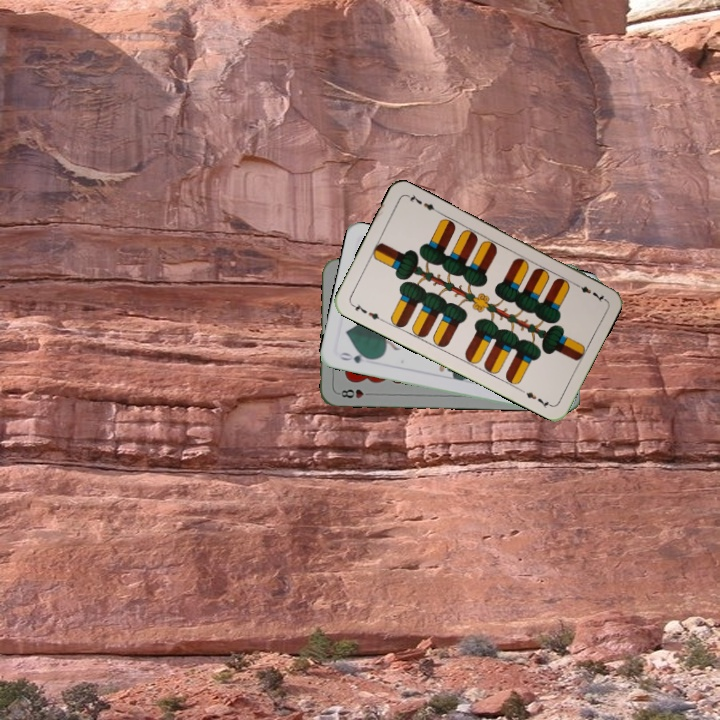E7: (569, 279, 607, 305), (347, 299, 385, 324)
GO: (335, 348, 375, 366)
H8: (334, 385, 375, 401)
